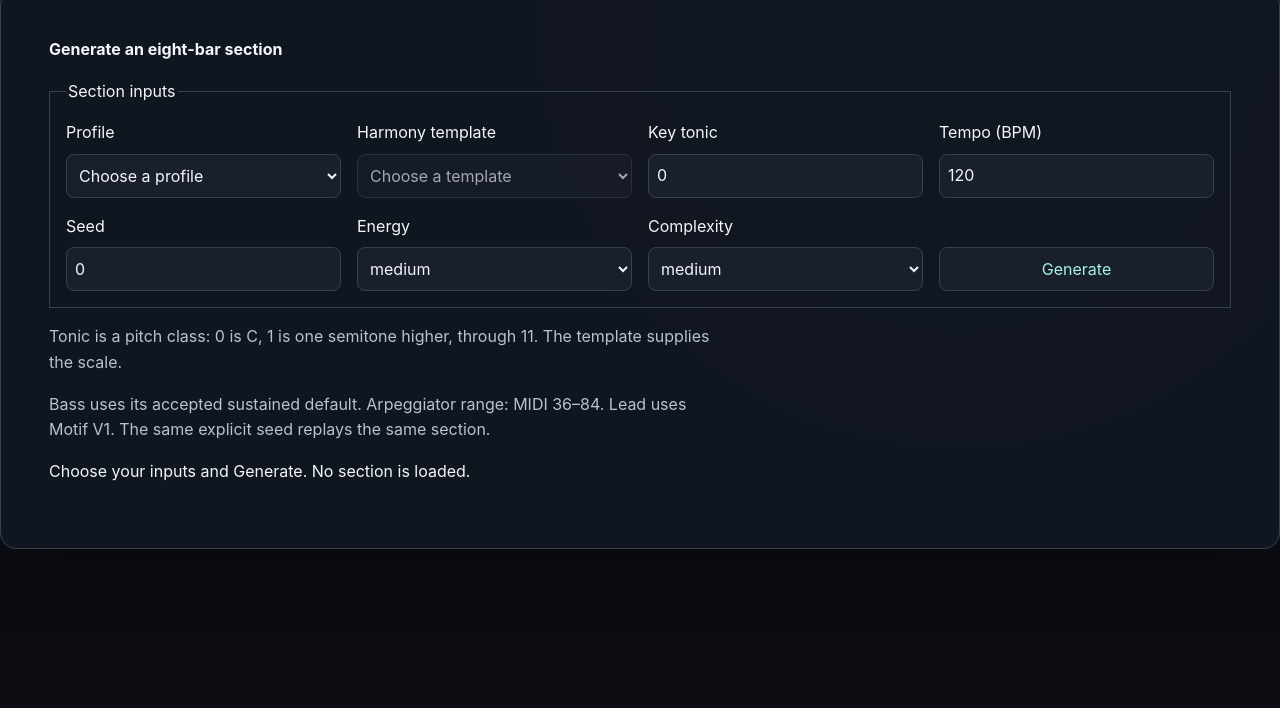
Test: ADR042 retained Arpeggiator browser interaction › fails closed for application-visible or browser-sanitized invalid draft -1
This screenshot has width=1280, height=708.
Select "dark-synthwave" in the dropdown labelled "Profile": (204, 176) 66,154 -> 341,198
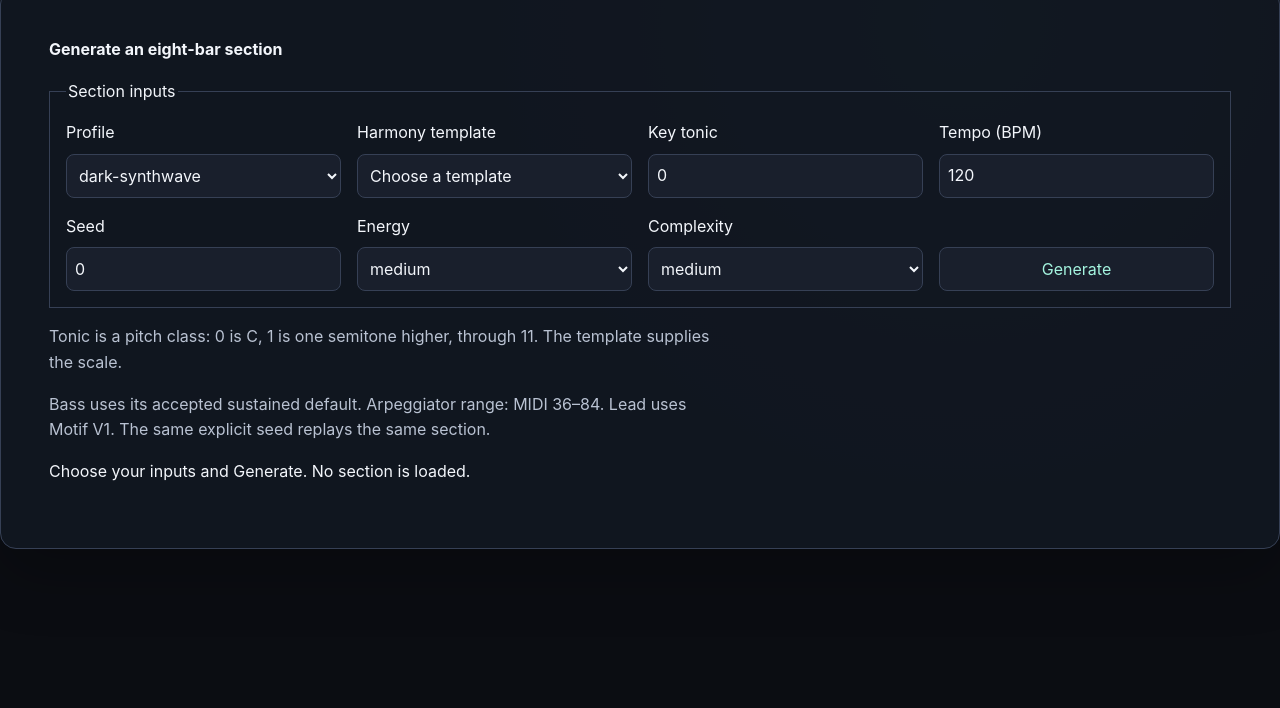
Select "degree-0654-natural-minor-v1 (natural-minor)" in the dropdown labelled "Harmony template": (494, 176) 357,154 -> 632,198
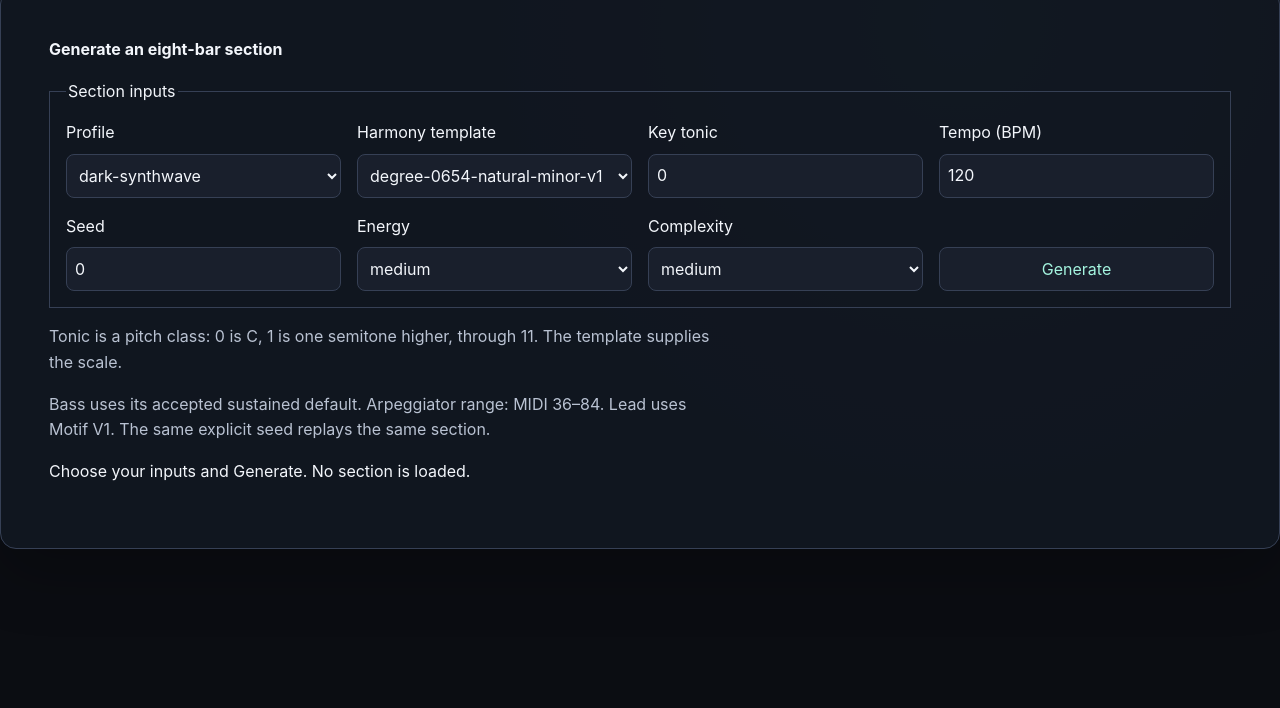
Click the button "Generate": (1076, 269) 939,247 -> 1214,291
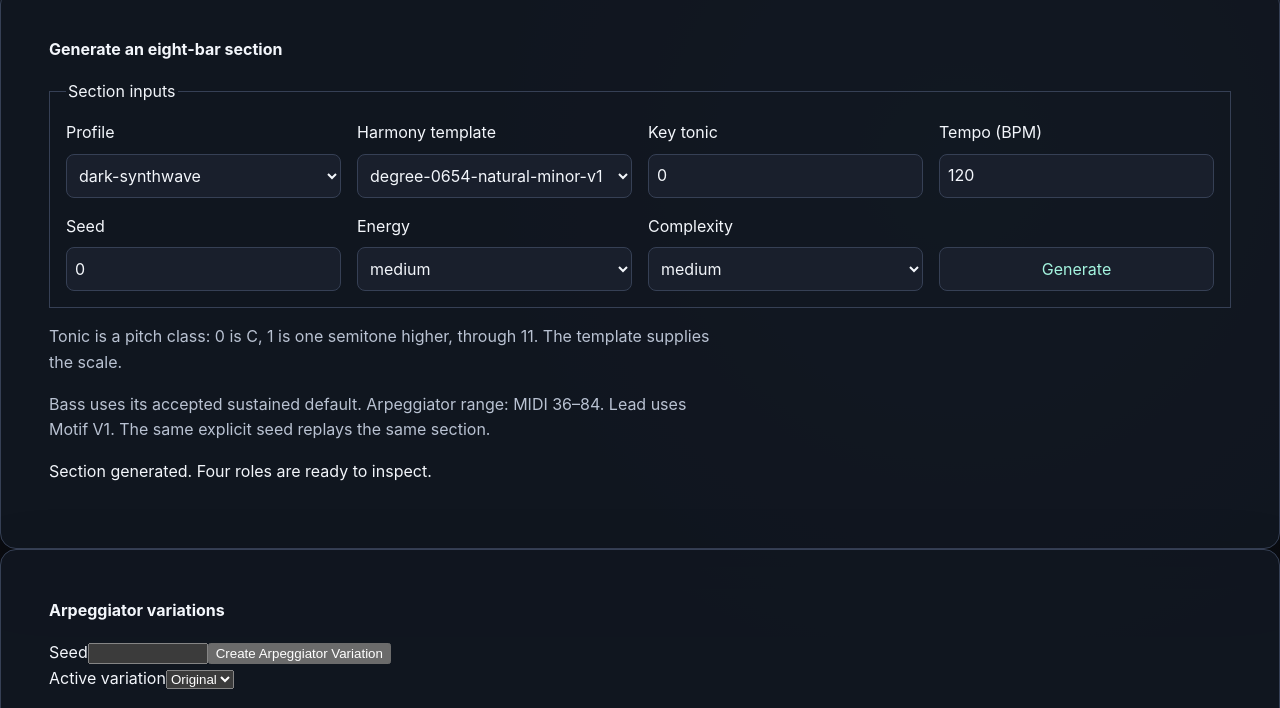
Check: the heading "Arpeggiator variations" is shown, box 49,600 -> 225,620
Check: the number field labelled "Seed" below "Arpeggiator variations" is enabled
In the number field labelled "Seed" below "Arpeggiator variations": (148, 653) 88,643 -> 208,664, type "-1"
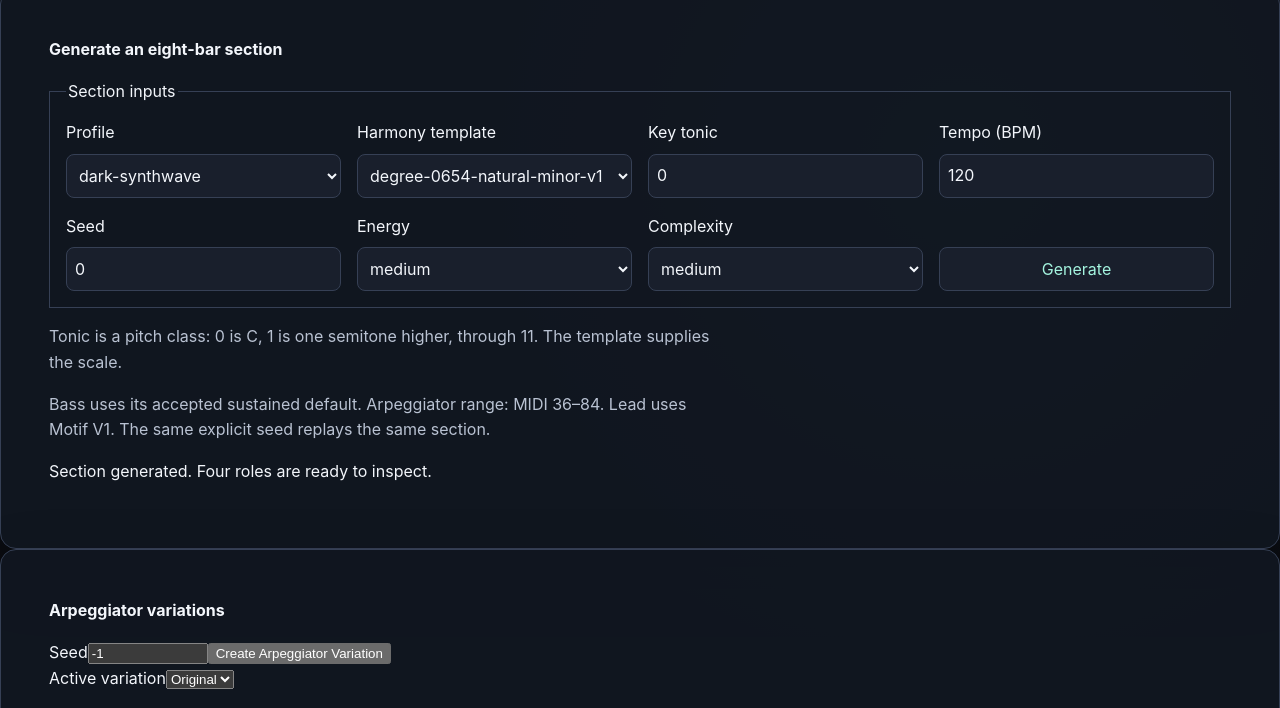
Submit the form labelled "Seed", box 49,642 -> 391,664
(page scrolled)
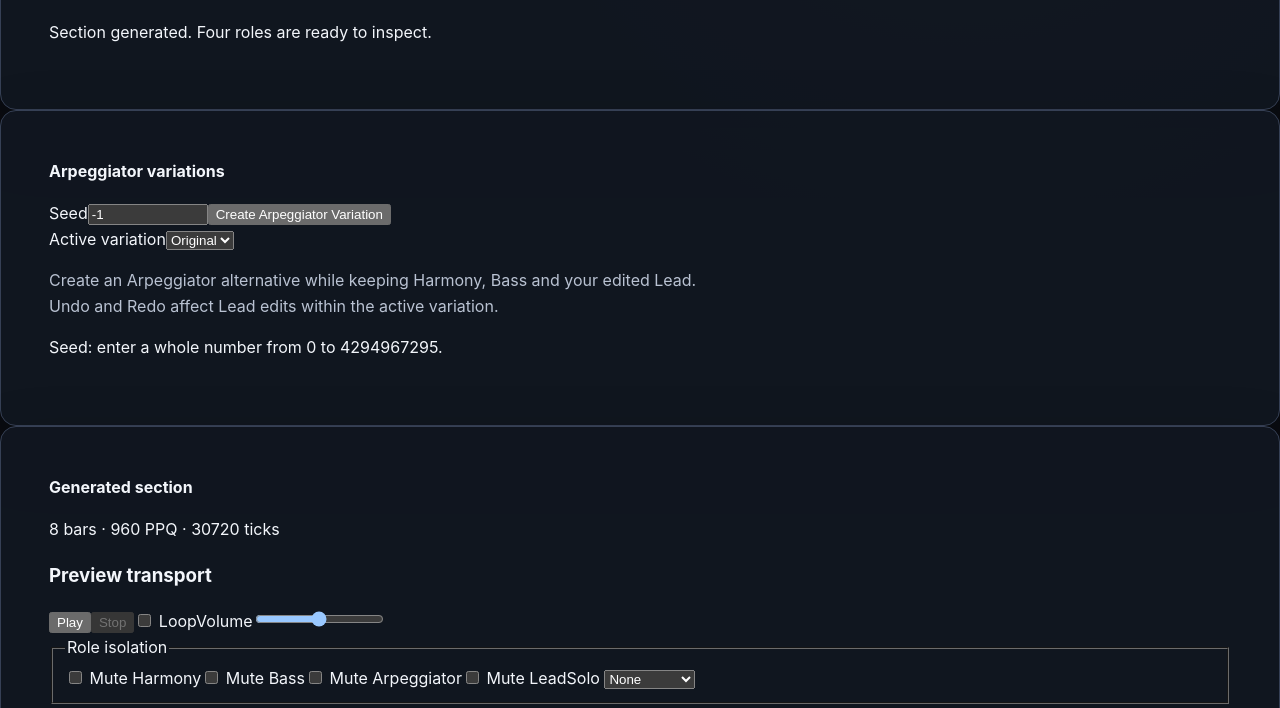
Check: the dropdown labelled "Active variation" shows "Original", box 166,230 -> 234,250
Check: the text "Seed: enter a whole number from 0 to 4294967295." is shown, box 49,337 -> 443,357
